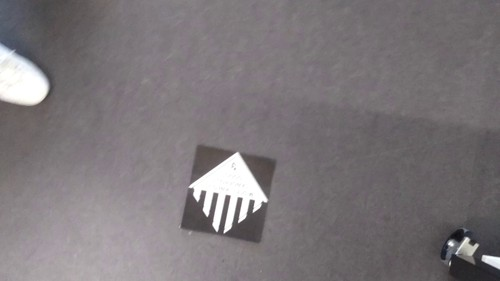misgoods: (183, 149, 277, 237)
